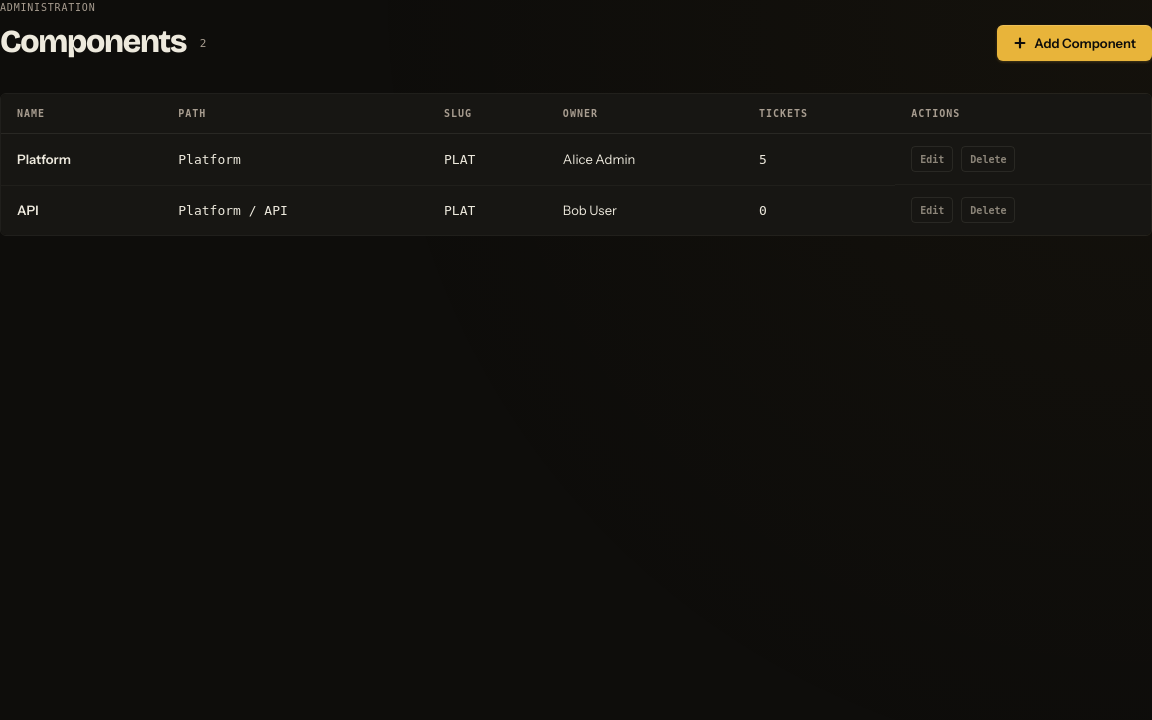
Test: ComponentManagement › validates create form
The width and height of the screenshot is (1152, 720).
Check: the text "Platform / API" is shown, box x1=162 y1=185 x2=428 y2=235
Click the button "Add Component": (1075, 43) x1=997 y1=25 x2=1151 y2=61
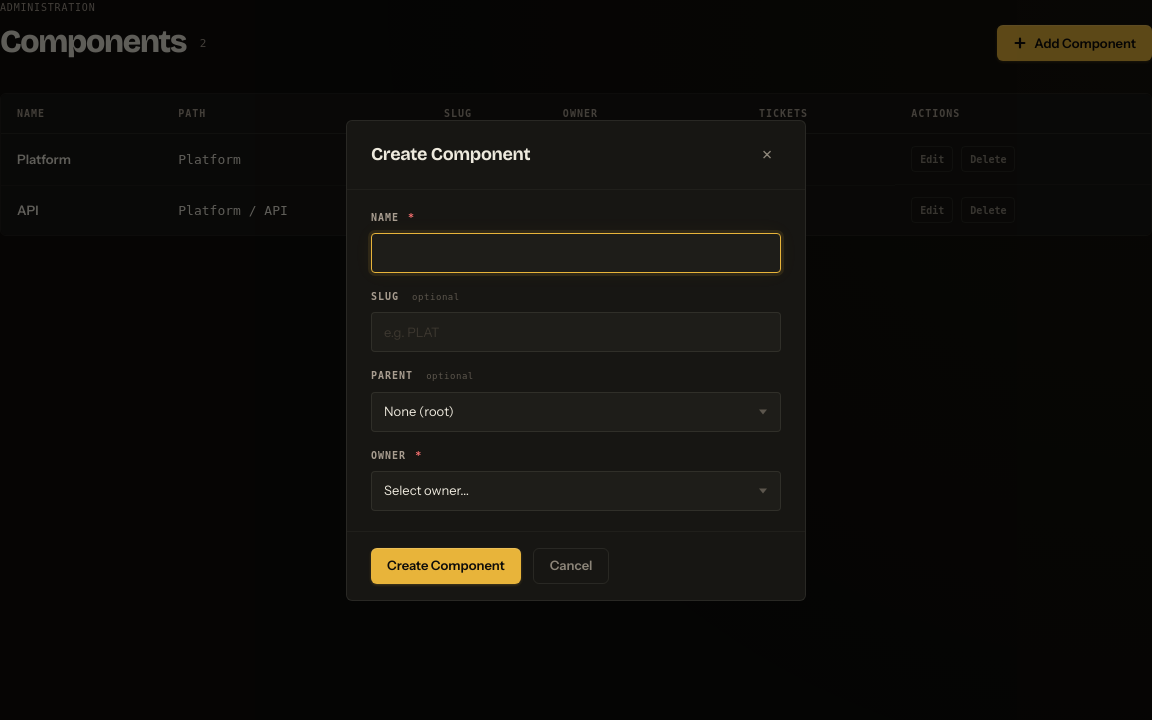
Click the button "Create Component": (446, 566) x1=371 y1=548 x2=521 y2=584
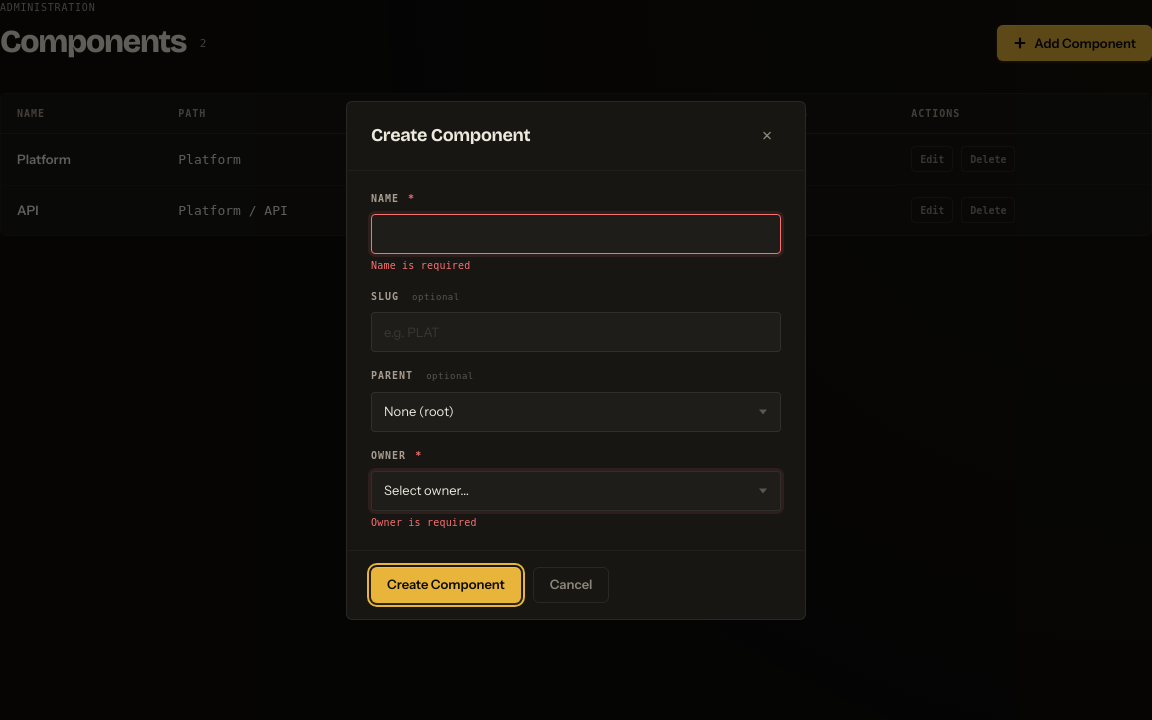
Check: the text "Name is required" is shown, box x1=371 y1=260 x2=470 y2=270
